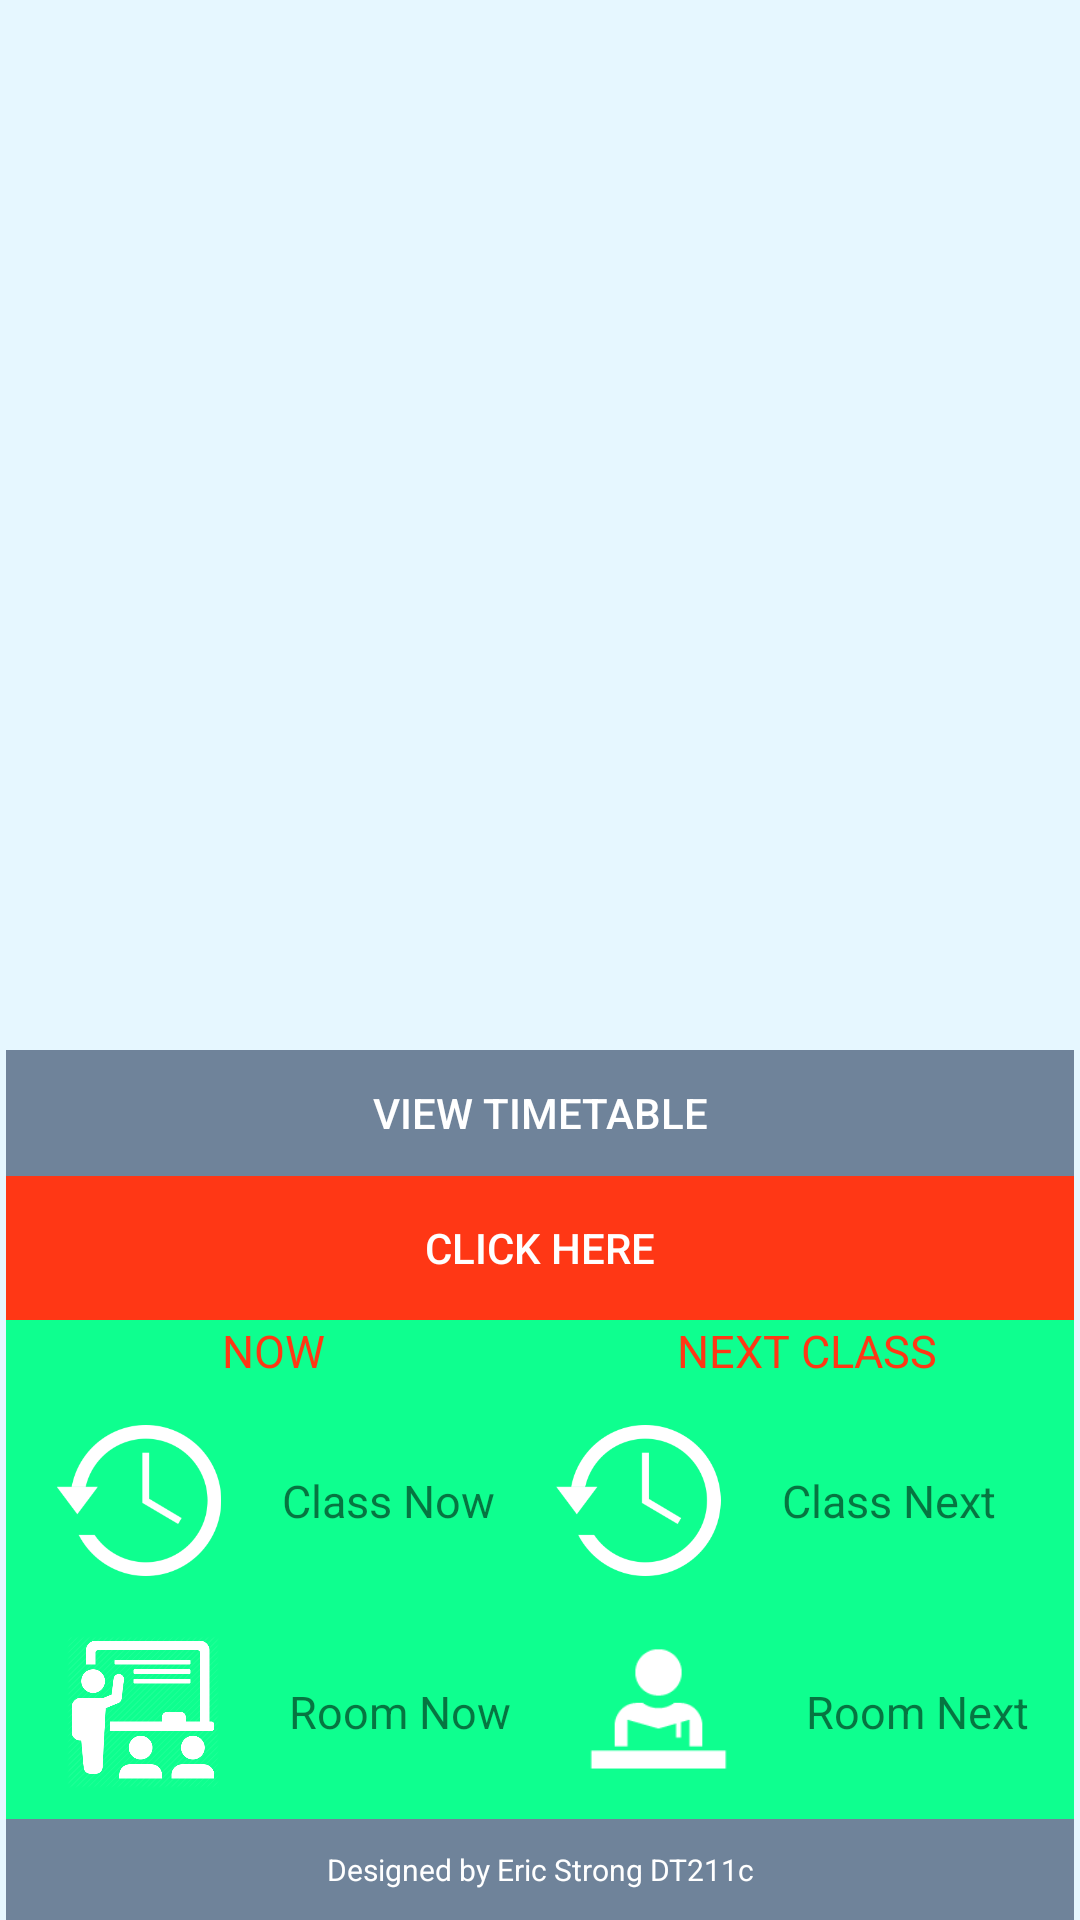

Screen size 1080x1920. Icon name, then its box in pixels as (left=x1, top=y1, right=x2, bottom=y2):
clock: (left=57, top=1425, right=221, bottom=1576), (left=556, top=1425, right=721, bottom=1576)
